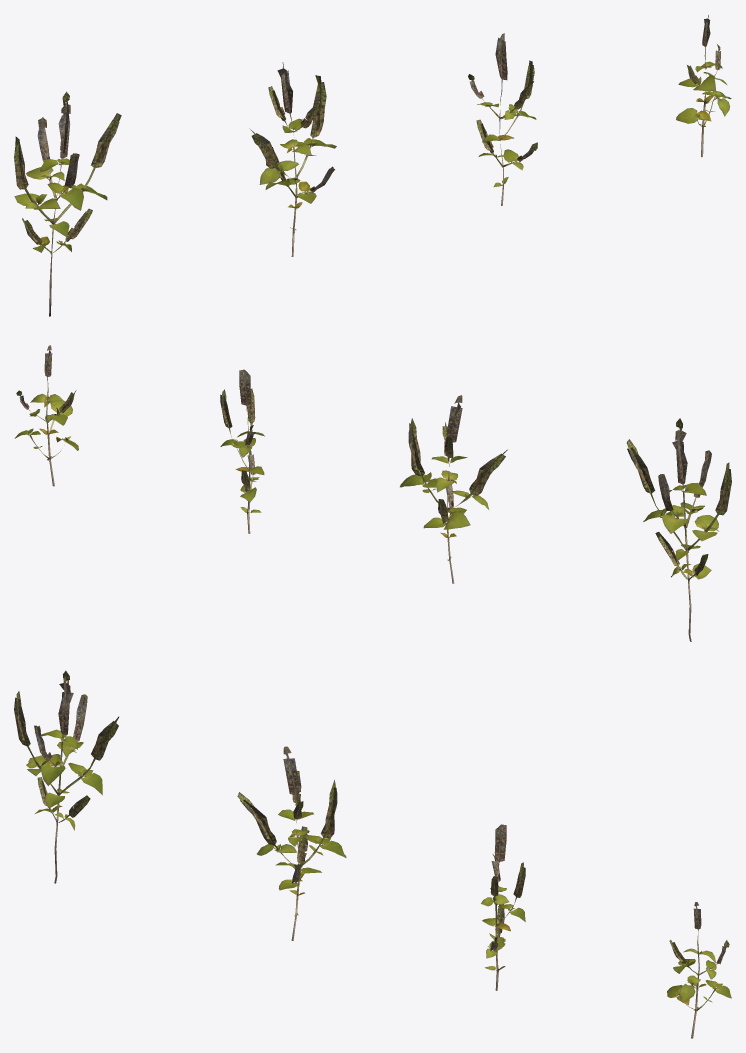
Rendered from shrub_03.glb.
3 views of the same model, one above another, from view 1: azimuth 30°, elevation 25°; view 2: azimuth 150°, elevation 25°; view 3: azimuth 330°, elevation 25° (orthographic). The views are drawn at different scales.
Visible parts, largest first — view 1: shrub_03_a, shrub_03_b, shrub_03_c, shrub_03_d; view 2: shrub_03_a, shrub_03_b, shrub_03_c, shrub_03_d; view 3: shrub_03_a, shrub_03_b, shrub_03_c, shrub_03_d.
Part boxes in pixels (x1=…): shrub_03_a: x1=14, y1=91, x2=121, y2=316; shrub_03_b: x1=249, y1=62, x2=336, y2=256; shrub_03_c: x1=468, y1=33, x2=537, y2=205; shrub_03_d: x1=676, y1=15, x2=731, y2=157; shrub_03_a: x1=626, y1=418, x2=731, y2=641; shrub_03_b: x1=400, y1=395, x2=507, y2=583; shrub_03_c: x1=220, y1=369, x2=264, y2=533; shrub_03_d: x1=14, y1=345, x2=78, y2=486; shrub_03_a: x1=14, y1=670, x2=118, y2=883; shrub_03_b: x1=237, y1=746, x2=346, y2=940; shrub_03_c: x1=481, y1=824, x2=525, y2=990; shrub_03_d: x1=667, y1=902, x2=731, y2=1038.
Size of the model in its own units: 1.37 by 0.4028 by 0.1512.
1 material, 1 textured.
